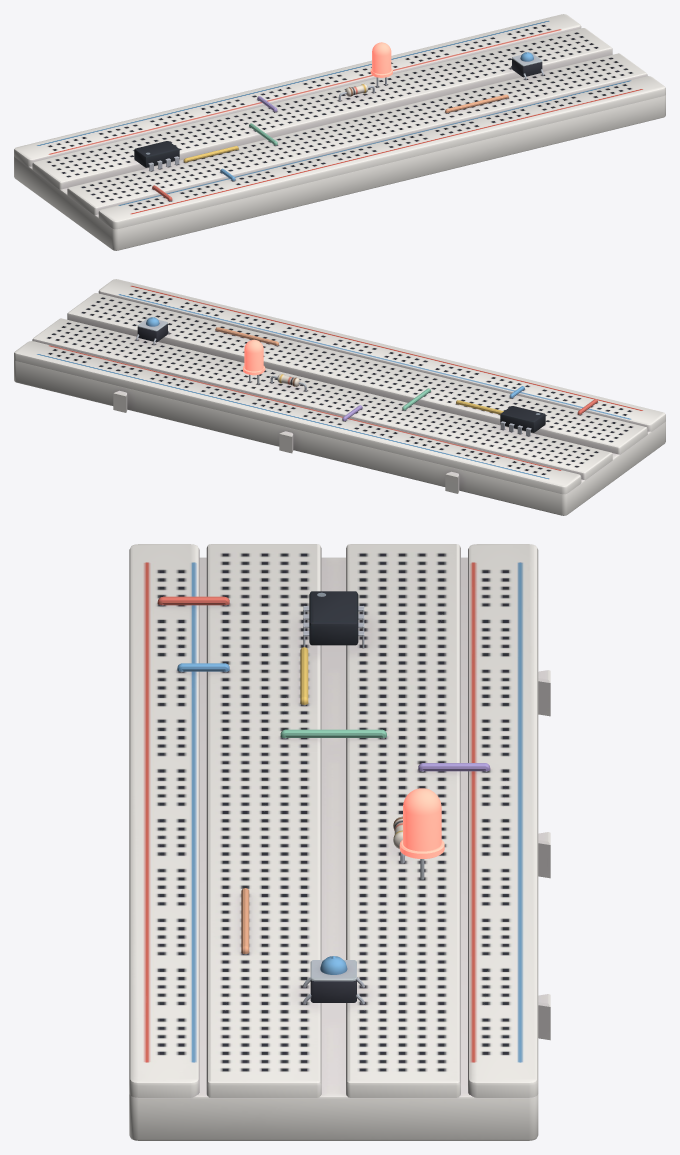
The model's file is breadboard.glb.
3 renders of one model, top to bottom at view 1: azimuth 30°, elevation 25°; view 2: azimuth 150°, elevation 25°; view 3: azimuth 270°, elevation 25°, orthographic. The views are drawn at different scales.
Parts seen in each view (by area): view 1: breadboard_body, breadboard_led_rgb; view 2: breadboard_body, breadboard_led_rgb; view 3: breadboard_body, breadboard_led_rgb.
Part boxes in pixels (x1=…): breadboard_body: x1=14, y1=14, x2=665, y2=250; breadboard_led_rgb: x1=370, y1=42, x2=392, y2=77; breadboard_body: x1=14, y1=279, x2=665, y2=515; breadboard_led_rgb: x1=243, y1=339, x2=265, y2=375; breadboard_body: x1=129, y1=544, x2=550, y2=1140; breadboard_led_rgb: x1=399, y1=788, x2=444, y2=858.
Size of the model in its own units: 0.1651 by 0.0206 by 0.0544.
Materials: 2 (1 with a texture image).
